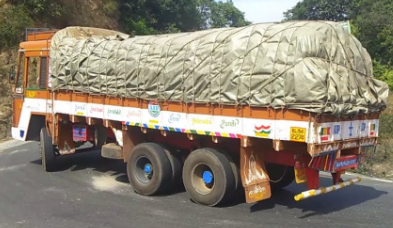truck: (1, 14, 389, 217)
